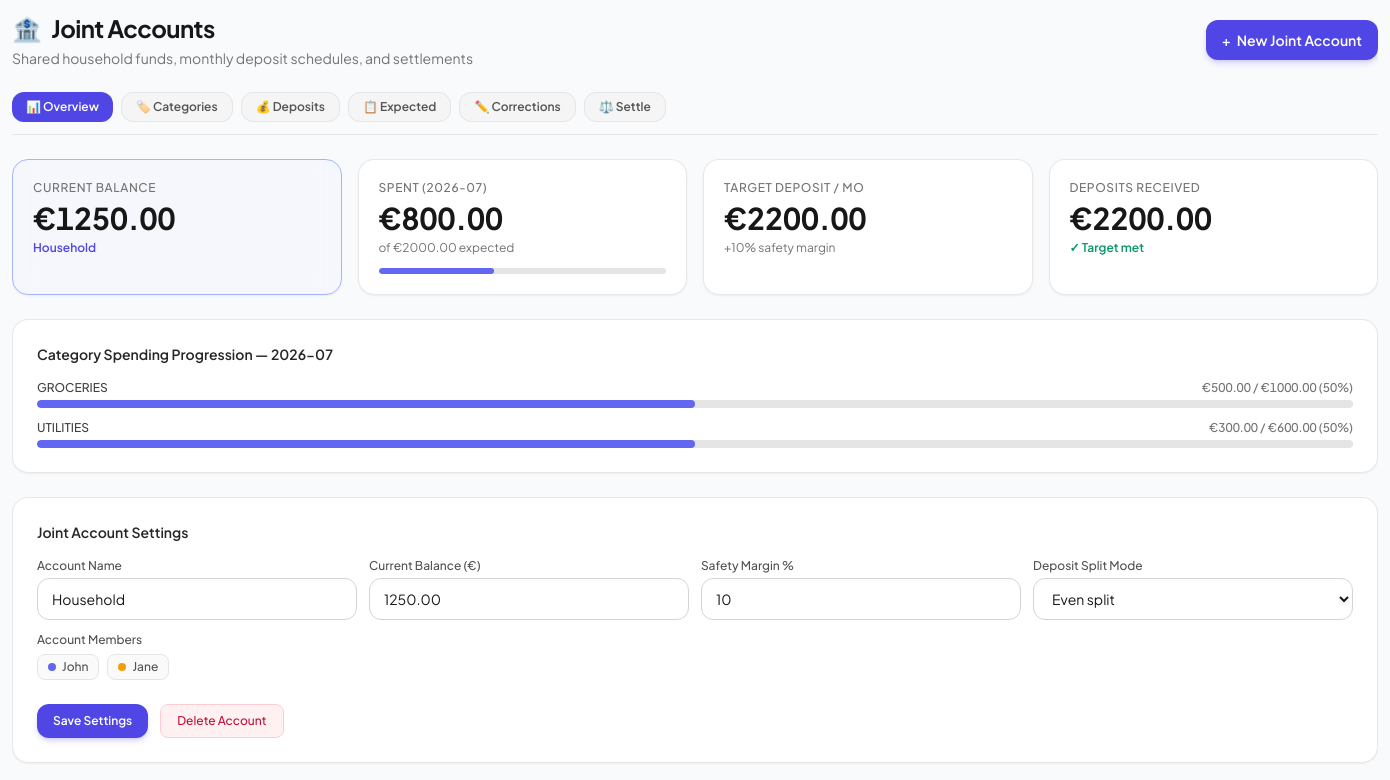
Test: JointAccountTab.svelte — account exists › navigates to Categories section (ja-nav-categories)
What coordinates should you click on to do the following:
click the button with id "ja-nav-categories"
I would click on:
 (177, 107)
Its box is [121, 92, 233, 122].
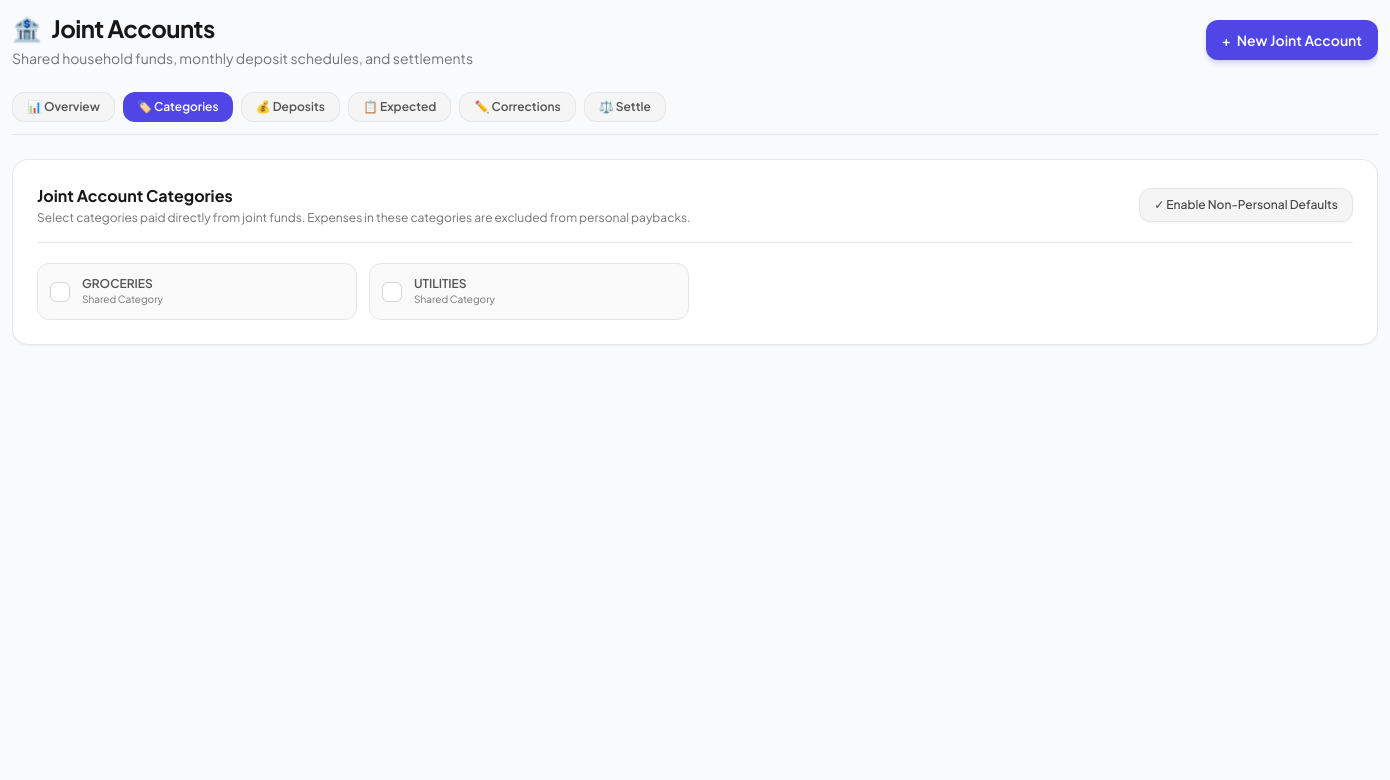
Expected: the text "GROCERIES" is shown, [82, 276, 163, 292]
Result: the heading "Joint Account Categories" is shown at [37, 185, 233, 206]
